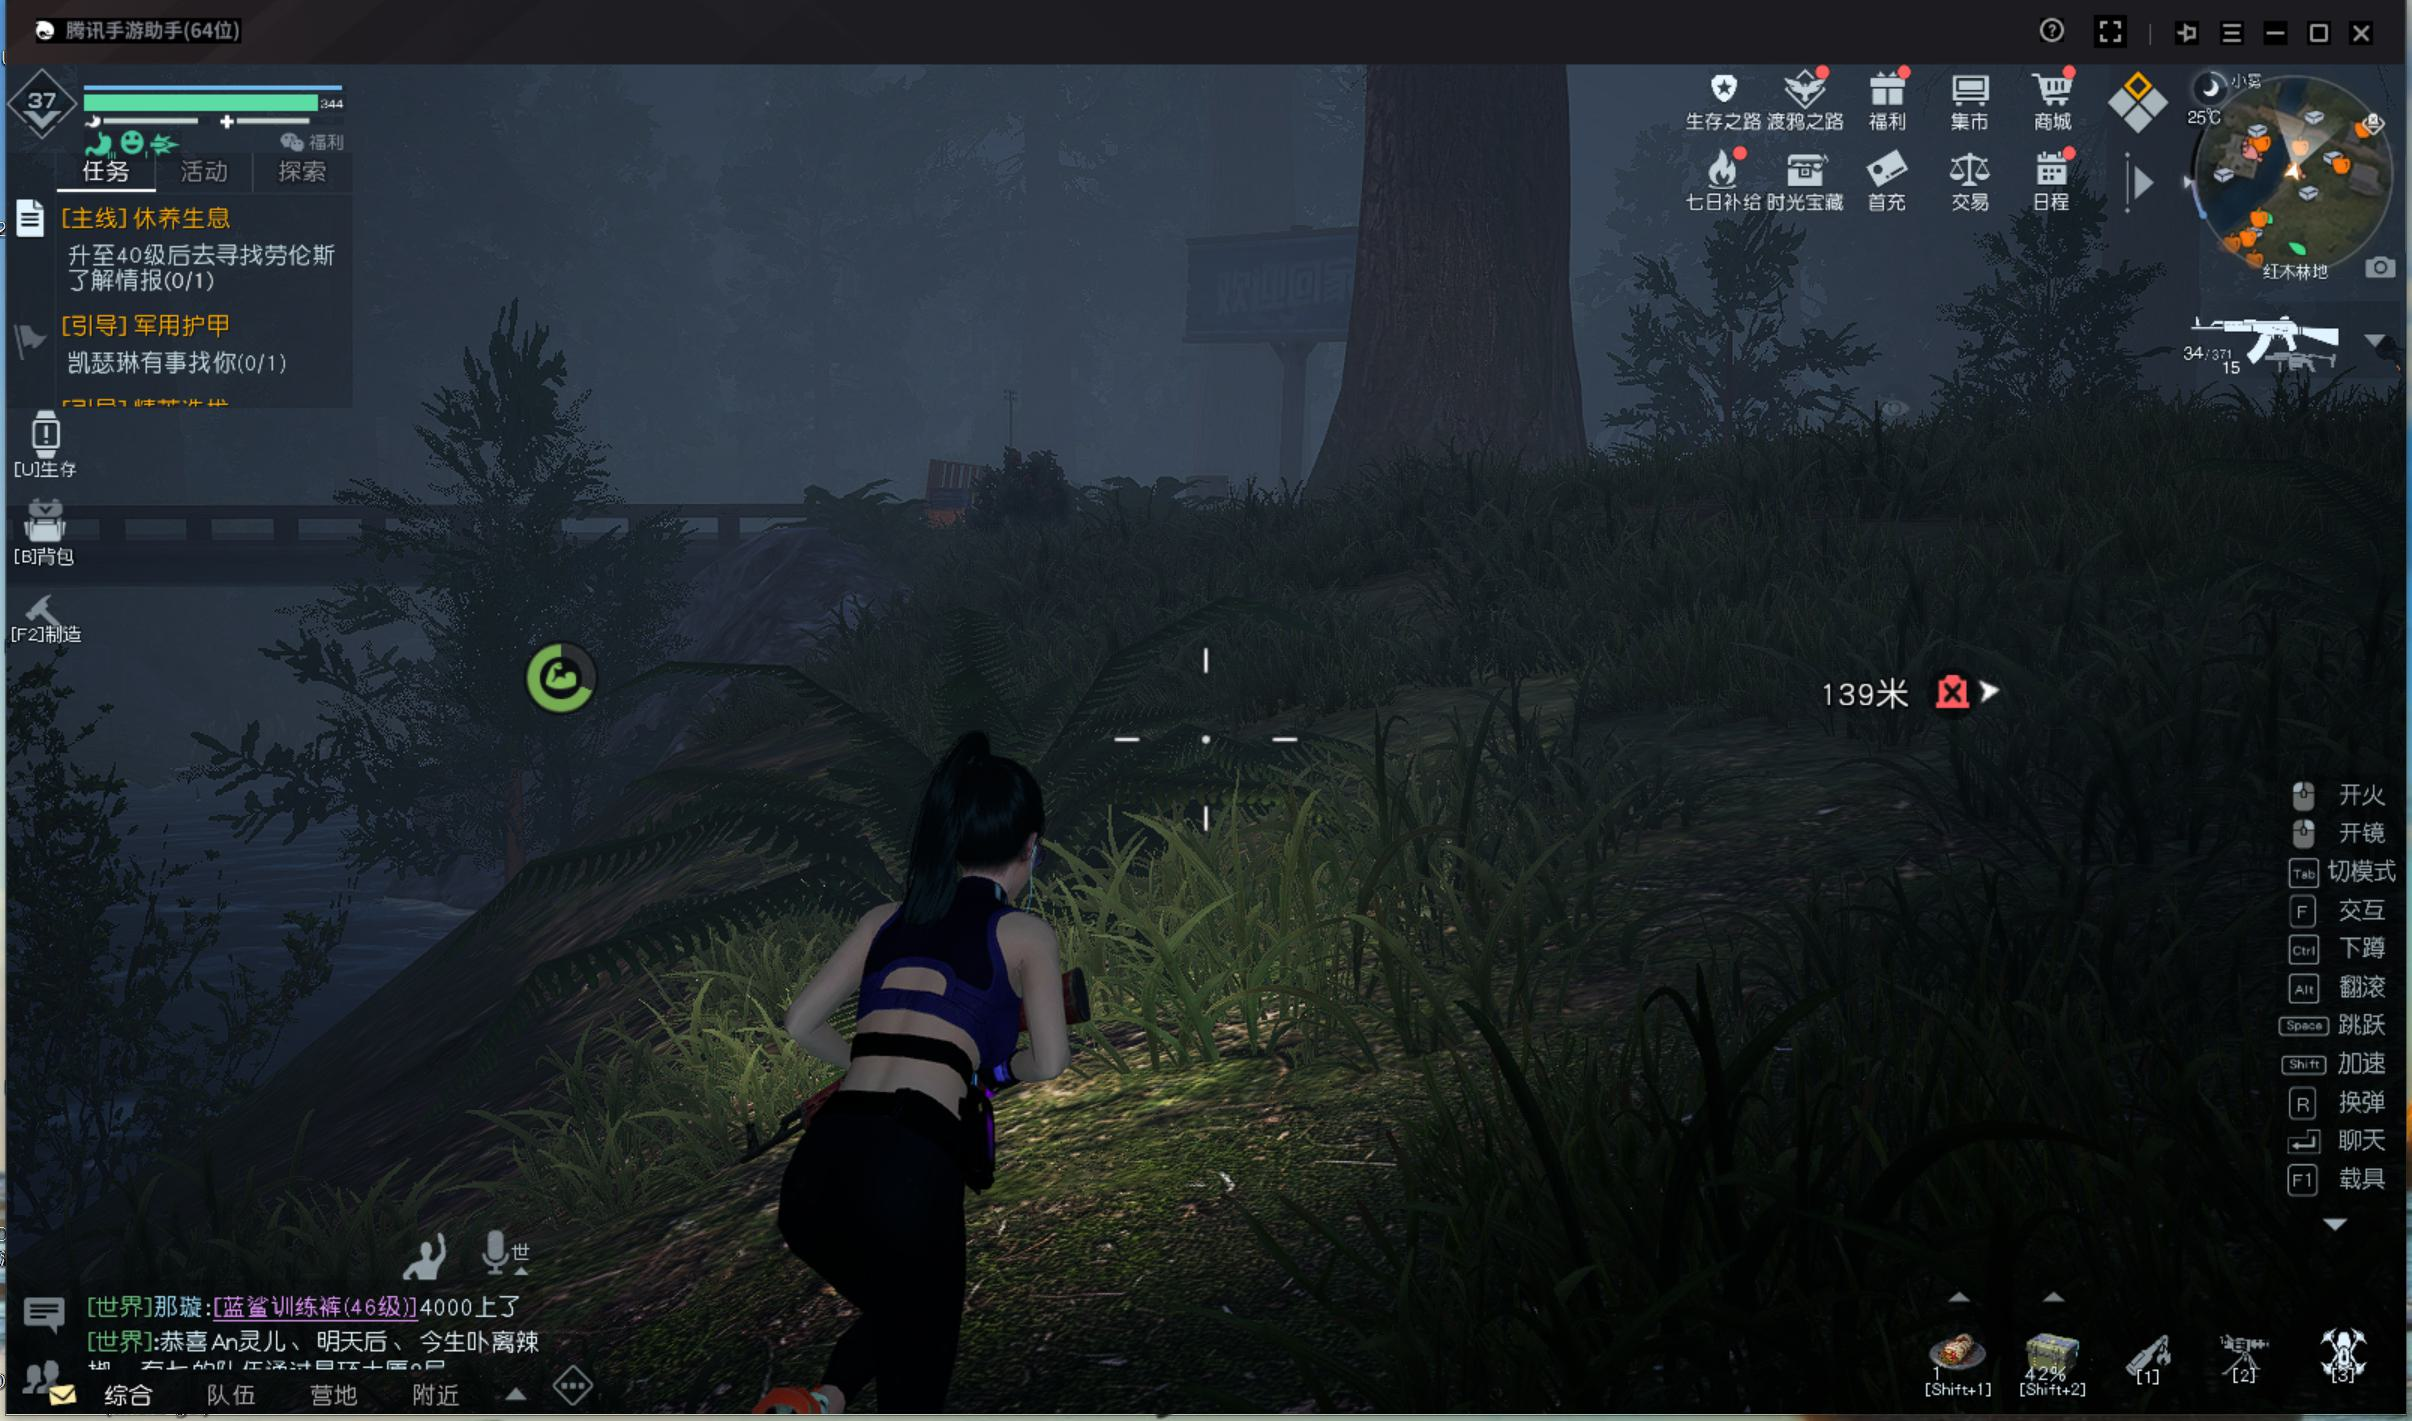tree: (1302, 73, 1622, 533)
